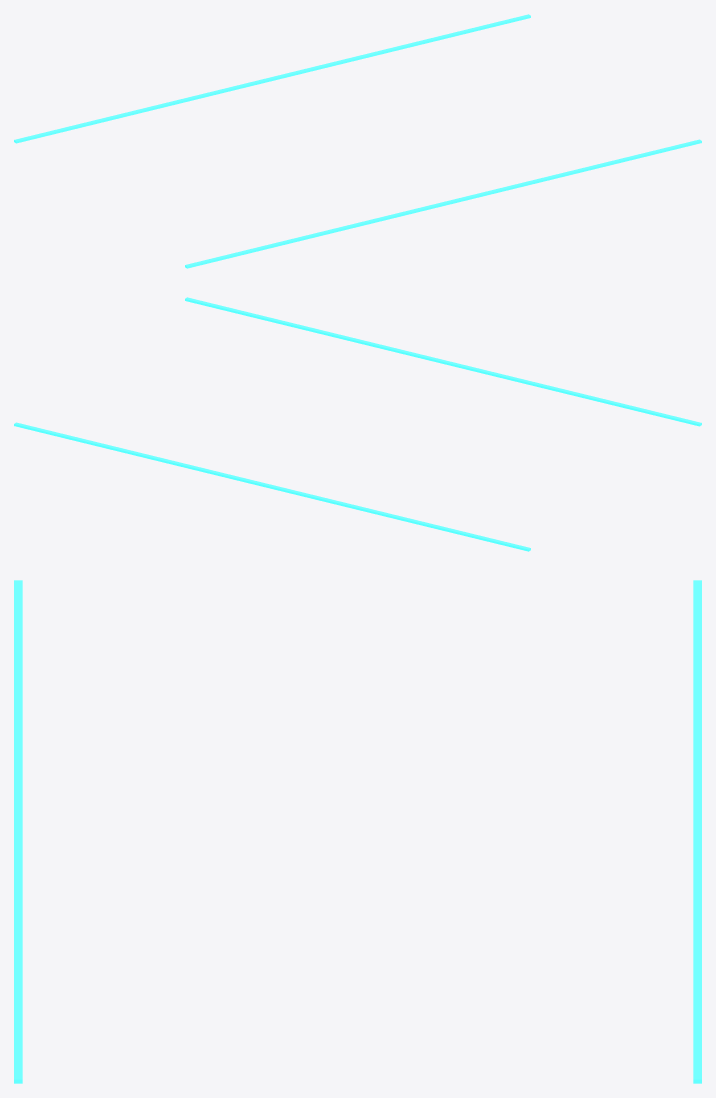
File: City_PedestrianHologram_6m_Guidance.glb
3 renders of one model, top to bottom at view 1: azimuth 30°, elevation 25°; view 2: azimuth 150°, elevation 25°; view 3: azimuth 270°, elevation 25°, orthographic. The views are drawn at different scales.
Parts seen in each view (by area): view 1: City_PedestrianHologram_6m_Guidance; view 2: City_PedestrianHologram_6m_Guidance; view 3: City_PedestrianHologram_6m_Guidance.
Part boxes in pixels (bbox=[...]): City_PedestrianHologram_6m_Guidance: bbox=[14, 14, 701, 268]; City_PedestrianHologram_6m_Guidance: bbox=[14, 297, 701, 551]; City_PedestrianHologram_6m_Guidance: bbox=[14, 580, 701, 1083].
Size of the model in its own units: 4.8 by 0.018 by 2.8.
